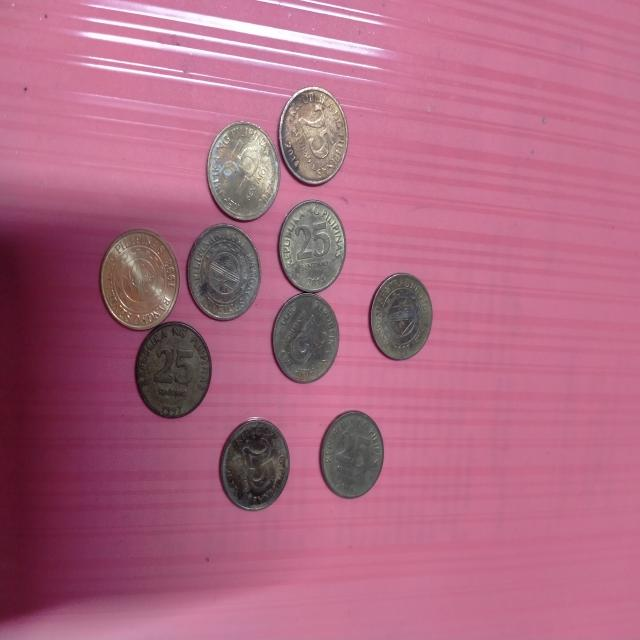25Cent_Old_Front: (281, 102, 344, 176), (284, 211, 340, 280)
